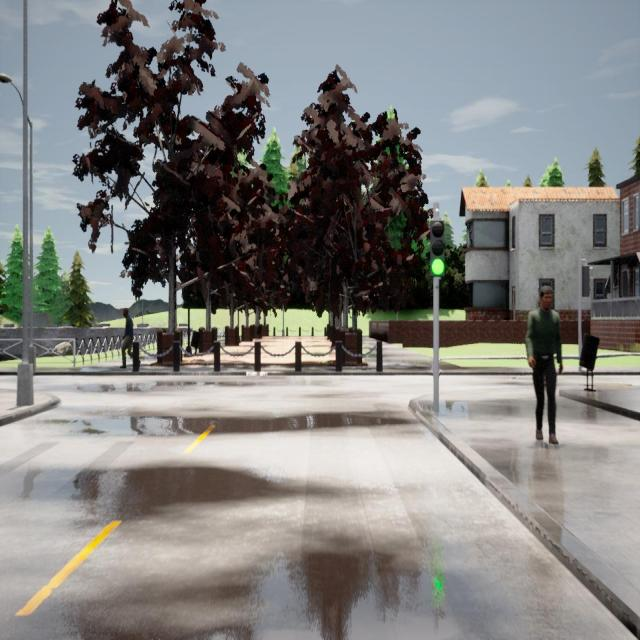Pedestrian: (525, 286, 563, 444), (120, 307, 136, 368)
traffic_light: (430, 220, 446, 278)
